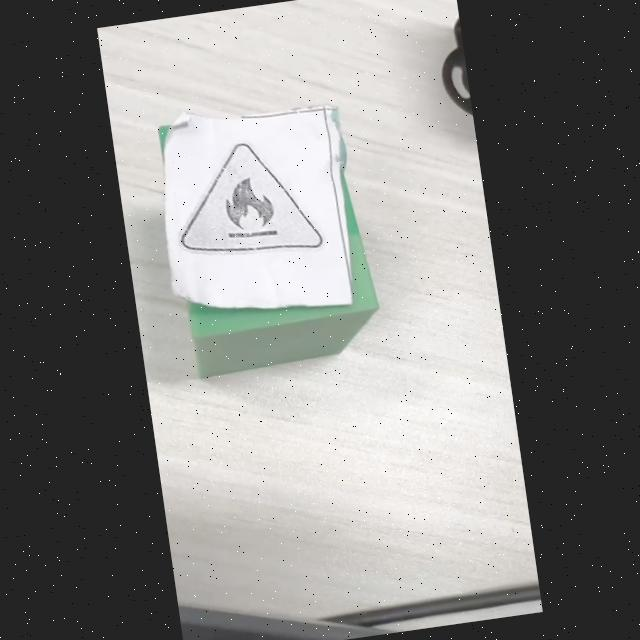Fire: (180, 143, 323, 253)
